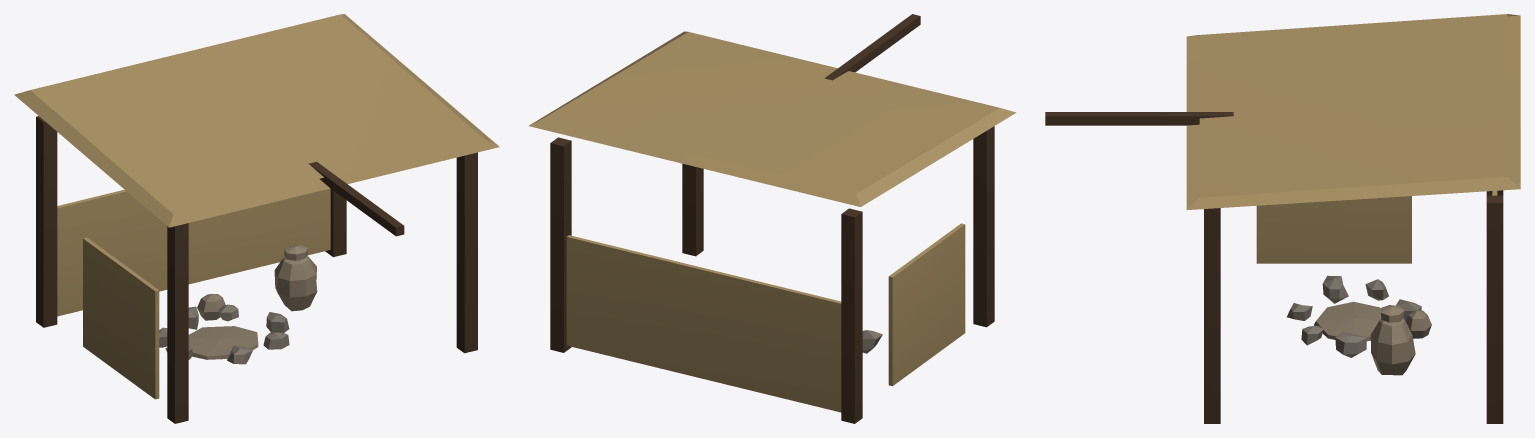
The model's file is caral_camp_shelter_lod0.glb.
3 renders of one model, left to right at view 1: azimuth 30°, elevation 25°; view 2: azimuth 150°, elevation 25°; view 3: azimuth 270°, elevation 25°, orthographic. The views are drawn at different scales.
Visible parts, largest first — view 1: GEO-Arch_camp_shelter_LOD0; view 2: GEO-Arch_camp_shelter_LOD0; view 3: GEO-Arch_camp_shelter_LOD0.
Part boxes in pixels (bbox=[...]): GEO-Arch_camp_shelter_LOD0: bbox=[14, 14, 499, 423]; GEO-Arch_camp_shelter_LOD0: bbox=[529, 14, 1016, 423]; GEO-Arch_camp_shelter_LOD0: bbox=[1045, 14, 1520, 423].
Size of the model in its own units: 3.2 by 2.17 by 3.7.
